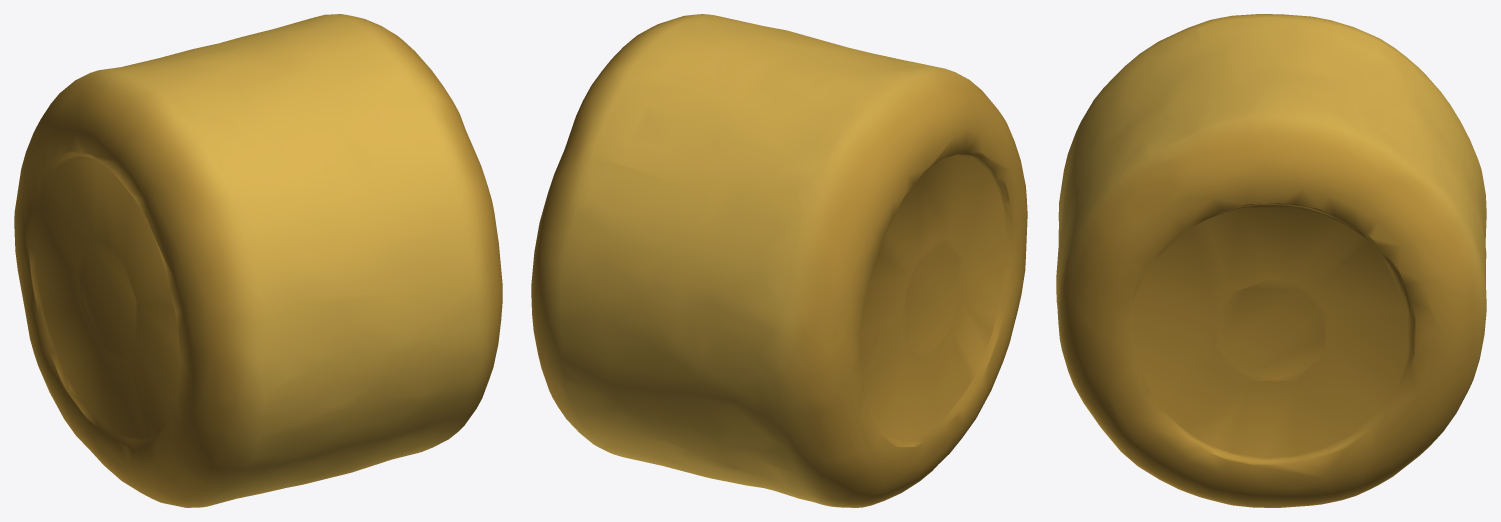
3 renders of one model, left to right at view 1: azimuth 30°, elevation 25°; view 2: azimuth 150°, elevation 25°; view 3: azimuth 270°, elevation 25°, orthographic. The views are drawn at different scales.
Parts seen in each view (by area): view 1: round_hay_bale_straw; view 2: round_hay_bale_straw; view 3: round_hay_bale_straw.
Part boxes in pixels (x1,y1,x2,y2): round_hay_bale_straw: [14, 14, 502, 507]; round_hay_bale_straw: [531, 14, 1027, 507]; round_hay_bale_straw: [1056, 14, 1486, 507].
Bounding box in the file's own units: 1.22 × 1.51 × 1.5.
1 material, 1 textured.
